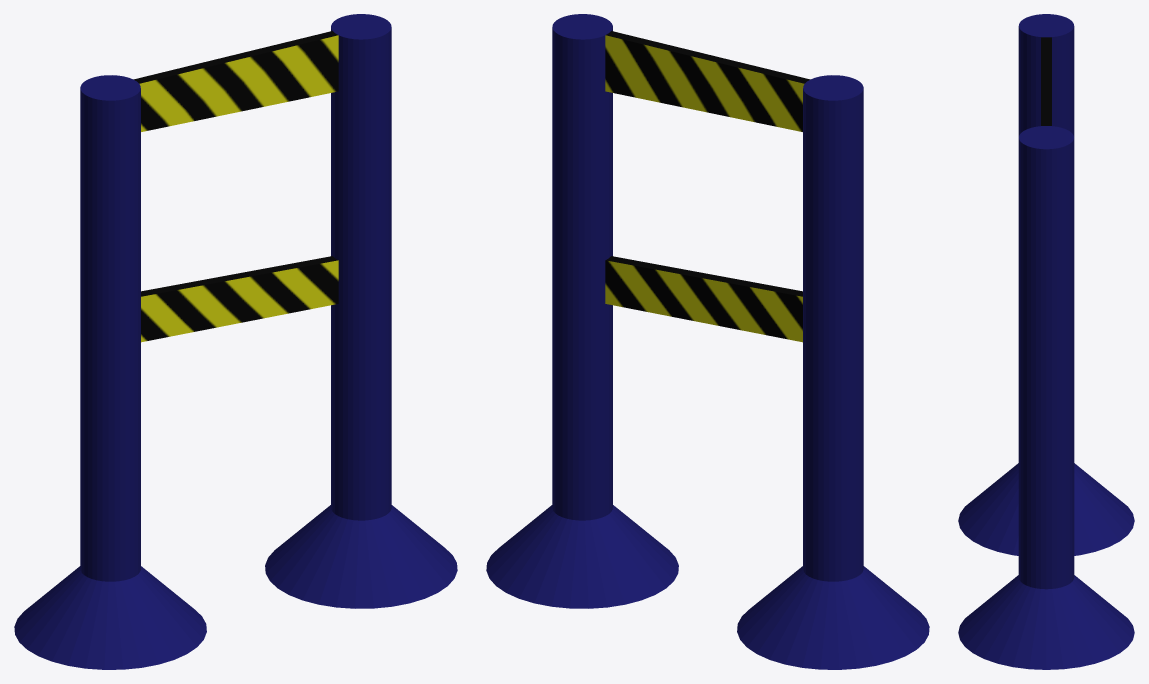
The model's file is valla 1c.glb.
The picture shows the model from 3 angles, left to right: view 1: azimuth 30°, elevation 25°; view 2: azimuth 150°, elevation 25°; view 3: azimuth 270°, elevation 25°; orthographic projection. The views are drawn at different scales.
Parts seen in each view (by area): view 1: valla 1c; view 2: valla 1c; view 3: valla 1c.
Part boxes in pixels (x1,y1,x2,y2): valla 1c: (14, 14, 457, 669); valla 1c: (486, 14, 929, 669); valla 1c: (958, 14, 1134, 669).
Bounding box in the file's own units: 1.04 × 1.3 × 0.4146.
Materials: 1 (1 with a texture image).
